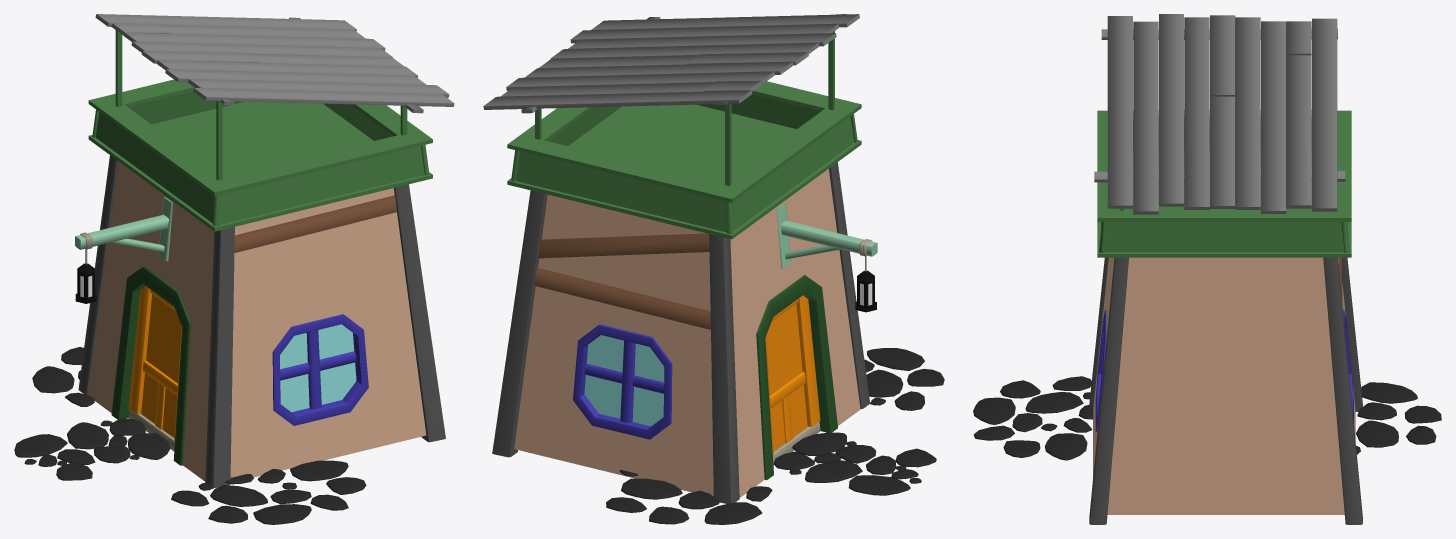
Rendered from Shack.fbx.
The picture shows the model from 3 angles, left to right: view 1: azimuth 30°, elevation 25°; view 2: azimuth 150°, elevation 25°; view 3: azimuth 270°, elevation 25°; orthographic projection. The views are drawn at different scales.
Visible parts, largest first — view 1: Line007, Box001, Box005, Object001, Box010, Object002, Shape003, Shape004, Plane001, Line051, Box015, Line036 (+1 smaller); view 2: Line007, Box001, Box005, Line051, Box010, Object002, Shape003, Shape004, Plane002, Line036, Object001, Box015 (+1 smaller); view 3: Line007, Box001, Box005, Object001, Line036, Shape003.
Boxes of the visible parts, x1,y1,x2,y2 form: Line007: (88,14,454,231); Box001: (88,162,426,481); Box005: (78,155,445,487); Object001: (171,460,366,524); Box010: (128,286,182,441); Object002: (14,418,170,480); Shape003: (272,314,368,425); Shape004: (111,266,190,465); Plane001: (280,324,356,412); Line051: (234,195,397,252); Box015: (75,197,172,261); Line036: (32,347,94,406); Line007: (483,14,861,239); Box001: (514,169,860,497); Box005: (492,162,869,503); Line051: (534,233,710,329); Box010: (765,295,820,455); Object002: (774,432,936,495); Shape003: (573,324,672,439); Shape004: (756,275,837,480); Plane002: (584,335,664,426); Line036: (606,470,772,524); Object001: (864,348,944,410); Box015: (776,202,877,268); Line007: (1094,14,1351,257); Box001: (1093,257,1355,514); Box005: (1089,257,1362,524); Object001: (973,376,1093,460); Line036: (1356,382,1441,454); Shape003: (1095,309,1353,431).
Size of the model in its own units: 212 by 211 by 227.
